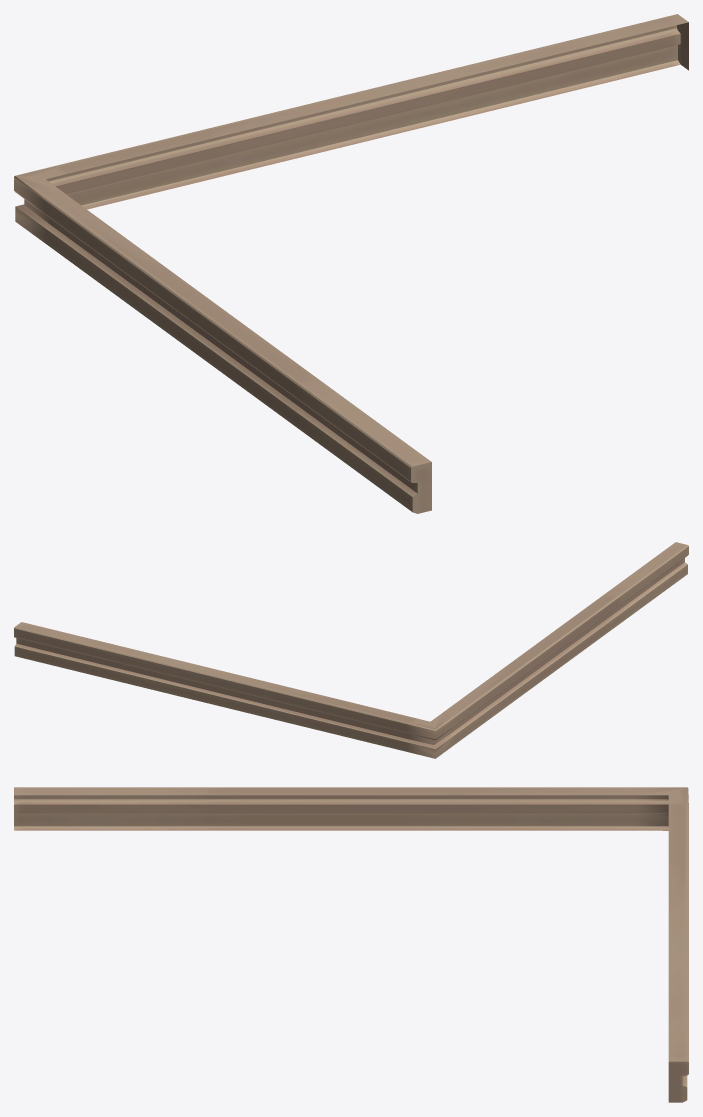
File: EdgeCorner.fbx
3 renders of one model, top to bottom at view 1: azimuth 30°, elevation 25°; view 2: azimuth 150°, elevation 25°; view 3: azimuth 270°, elevation 25°, orthographic. The views are drawn at different scales.
Parts seen in each view (by area): view 1: EdgeCorner; view 2: EdgeCorner; view 3: EdgeCorner.
Part boxes in pixels (<box>): EdgeCorner: <box>14,14,688,513</box>; EdgeCorner: <box>14,542,688,758</box>; EdgeCorner: <box>14,787,688,1102</box>.
Bounding box in the file's own units: 2590 × 181 × 2690.
1 material, 1 textured.
